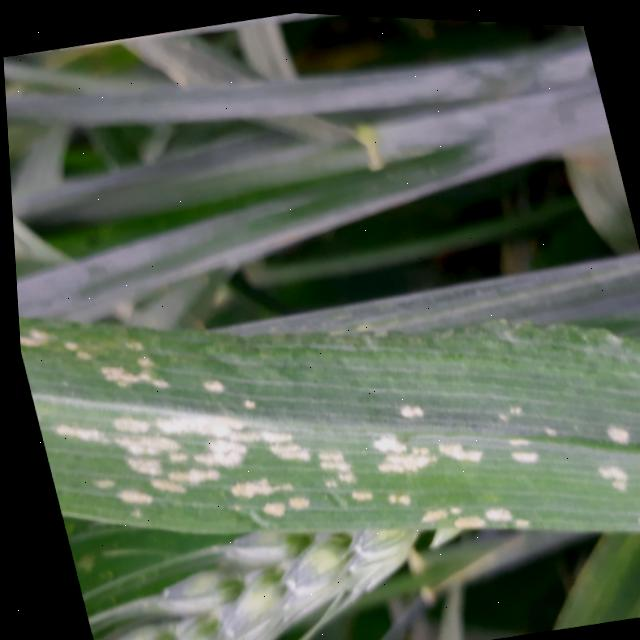powder_mildew: (9, 185, 640, 640), (71, 536, 364, 640)
